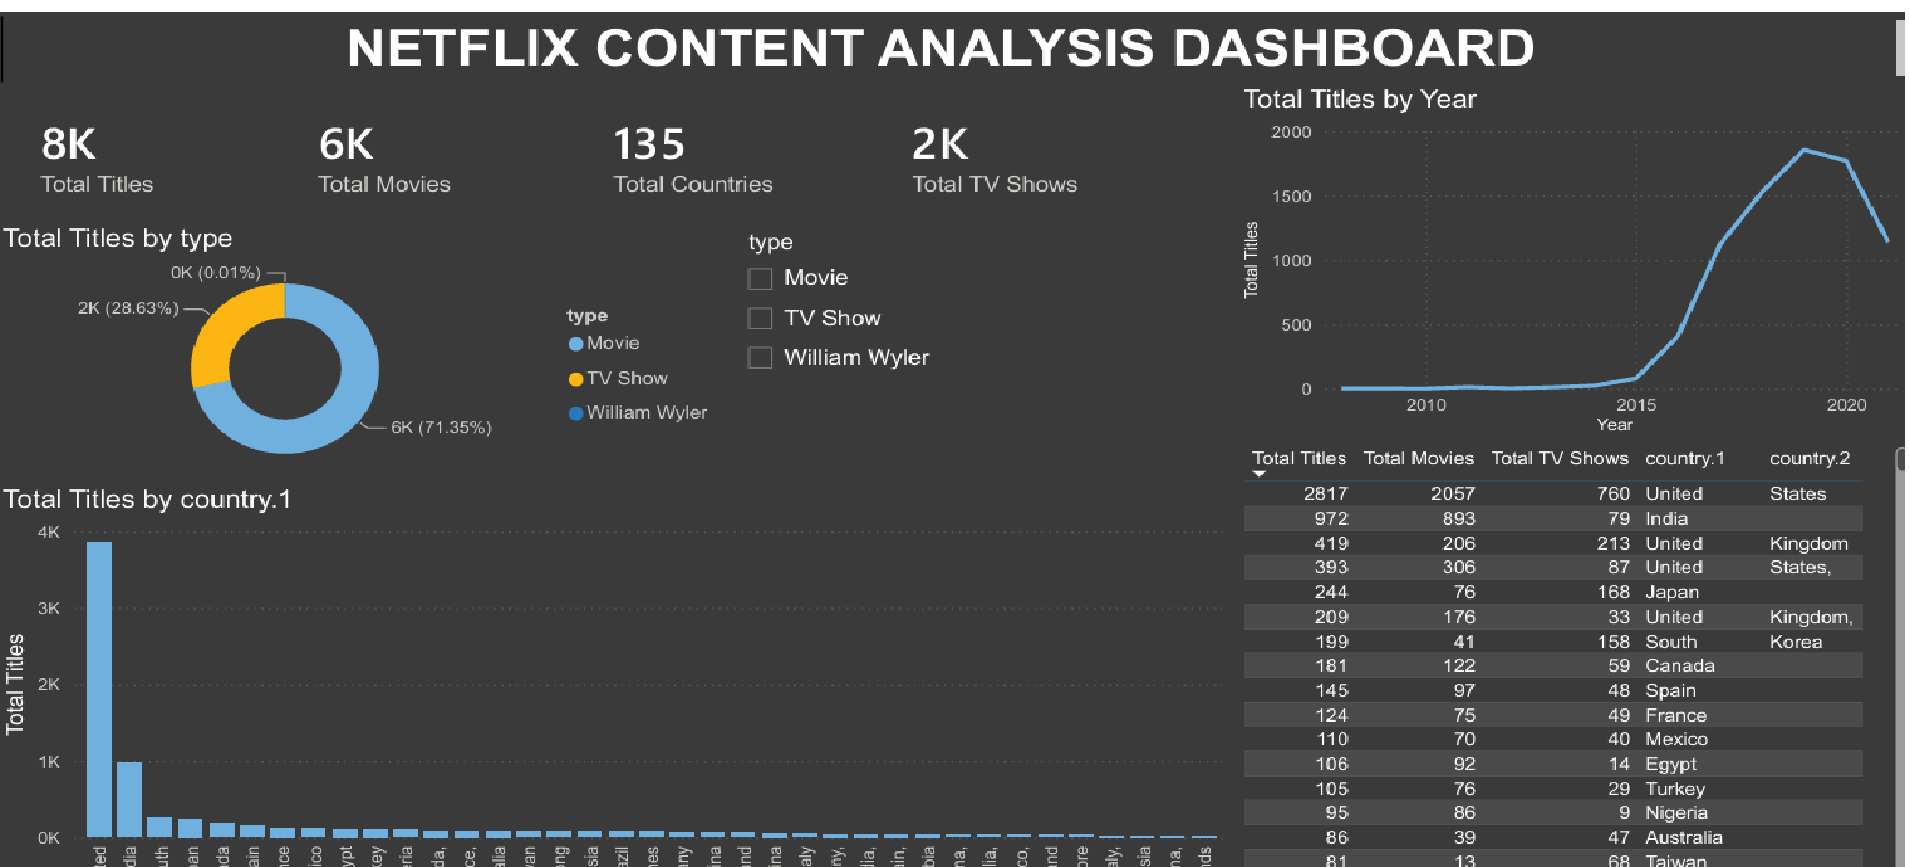

What the dashboard file says about the page in this screenshot:
{"tool":"powerbi","page":{"name":"Page 1","canvas":[1280,720],"ordinal":0},"visuals":[{"type":"cardVisual","fields":{"Data":["netflix_titles.Total Titles"]},"box":[0,52.1,184.7,102.6],"z":0},{"type":"cardVisual","fields":{"Data":["netflix_titles.Total Movies"]},"box":[184.7,52.1,197.4,102.6],"z":1},{"type":"cardVisual","fields":{"Data":["netflix_titles.Total Countries"]},"box":[382.1,52.1,198.9,102.6],"z":2},{"type":"cardVisual","fields":{"Data":["netflix_titles.Total TV Shows"]},"box":[581.1,52.1,247.9,102.6],"z":3},{"type":"donutChart","fields":{"Category":["netflix_titles.type"],"Y":["netflix_titles.Total Titles"]},"box":[0,154.7,489.5,191.1],"z":4},{"type":"lineChart","fields":{"Category":["netflix_titles.date_added.Variation.Date Hierarchy.Year","netflix_titles.date_added.Variation.Date Hierarchy.Quarter","netflix_titles.date_added.Variation.Date Hierarchy.Month","netflix_titles.date_added.Variation.Date Hierarchy.Day"],"Y":["netflix_titles.Total Titles"]},"box":[827.4,52.1,453.2,262.1],"z":5},{"type":"columnChart","fields":{"Y":["netflix_titles.Total Titles"],"Category":["netflix_titles.country.1"]},"box":[0,345.8,827.4,374.2],"z":6},{"type":"tableEx","fields":{"Values":["netflix_titles.Total Titles","netflix_titles.Total Movies","netflix_titles.Total TV Shows","netflix_titles.country.1","netflix_titles.country.2"]},"box":[827.4,314.2,453.2,405.8],"z":7},{"type":"slicer","fields":{"Values":["netflix_titles.type"]},"box":[489.5,154.7,337.9,191.1],"z":8},{"type":"textbox","box":[0,0,1280.5,52.1],"z":10}]}

Visuals, with their boxes on the page's 1280x720 design canvas (x1, y1, x2, y2). These are canvas units, not pixel positions in the 1909x867 screenshot, which may show the page scaled, cropped or inside an application window:
cardVisual - netflix_titles.Total Titles: <region>0, 52, 185, 155</region>
cardVisual - netflix_titles.Total Movies: <region>185, 52, 382, 155</region>
cardVisual - netflix_titles.Total Countries: <region>382, 52, 581, 155</region>
cardVisual - netflix_titles.Total TV Shows: <region>581, 52, 829, 155</region>
donutChart - netflix_titles.type x netflix_titles.Total Titles: <region>0, 155, 490, 346</region>
lineChart - netflix_titles.date_added.Variation.Date Hierarchy.Year x netflix_titles.date_added.Variation.Date Hierarchy.Quarter: <region>827, 52, 1281, 314</region>
columnChart - netflix_titles.Total Titles x netflix_titles.country.1: <region>0, 346, 827, 720</region>
tableEx - netflix_titles.Total Titles x netflix_titles.Total Movies: <region>827, 314, 1281, 720</region>
slicer - netflix_titles.type: <region>490, 155, 827, 346</region>
textbox: <region>0, 0, 1280, 52</region>
